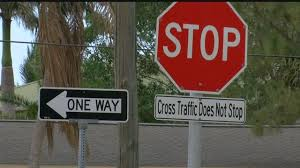oneWay: (40, 84, 130, 123)
stop: (155, 1, 249, 95)
